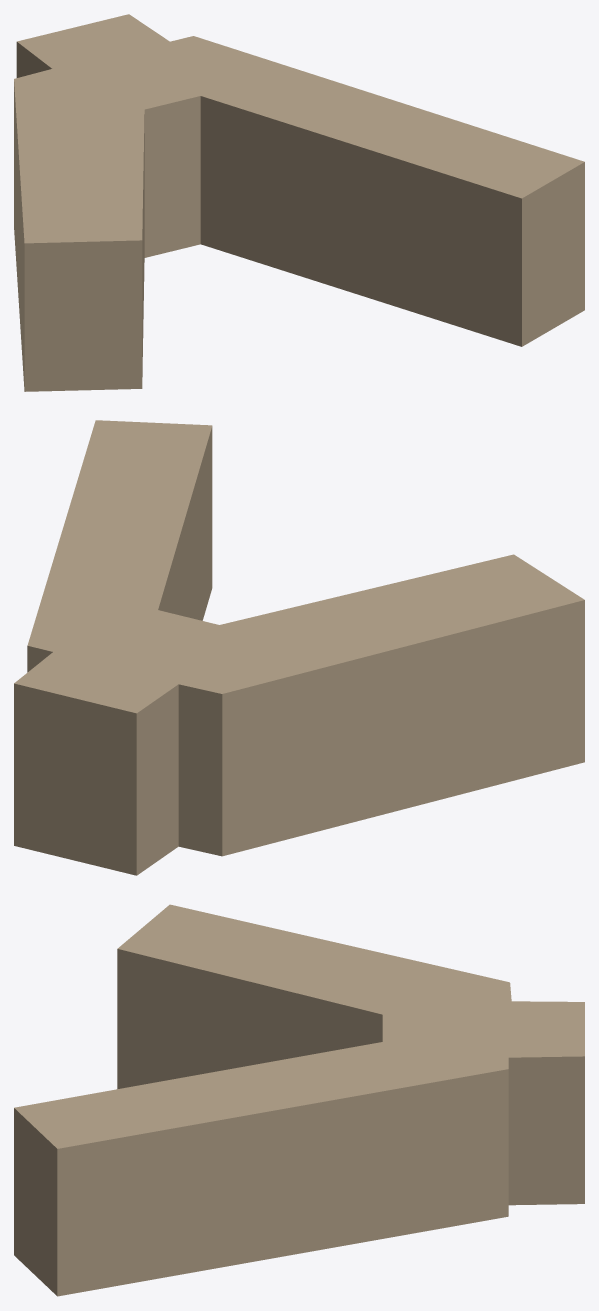
The model's file is bld_99007826.dae.
The picture shows the model from 3 angles, top to bottom: view 1: azimuth 30°, elevation 25°; view 2: azimuth 150°, elevation 25°; view 3: azimuth 270°, elevation 25°; orthographic projection. The views are drawn at different scales.
Visible parts, largest first — view 1: bld_99007826; view 2: bld_99007826; view 3: bld_99007826.
Boxes of the visible parts, bbox=[...] form: bld_99007826: bbox=[14, 14, 584, 391]; bld_99007826: bbox=[14, 420, 584, 875]; bld_99007826: bbox=[14, 904, 584, 1296].
Bounding box in the file's own units: 28.42 × 28.05 × 8.
